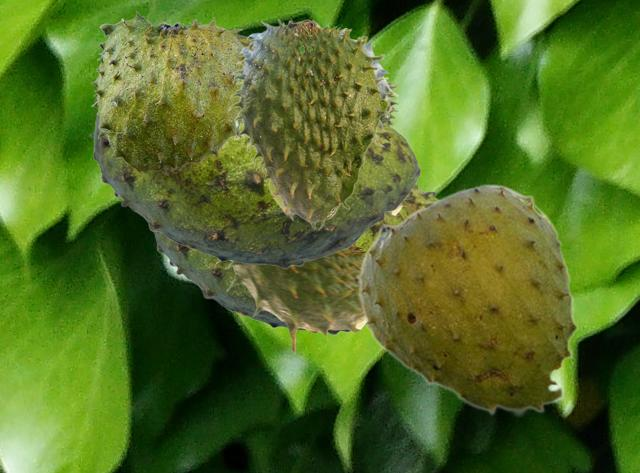guyabano: (90, 34, 420, 268), (354, 183, 578, 417), (148, 183, 438, 334), (227, 18, 398, 228), (90, 10, 244, 173), (215, 241, 366, 353), (355, 39, 417, 218)
